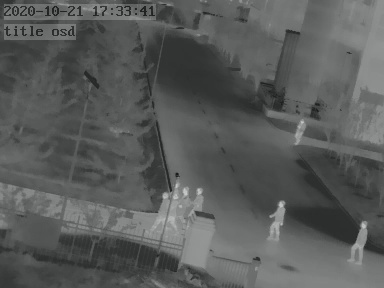person: (350, 217, 367, 262), (268, 199, 285, 240), (170, 190, 184, 230), (156, 191, 169, 229), (291, 114, 305, 145), (189, 186, 203, 215)
